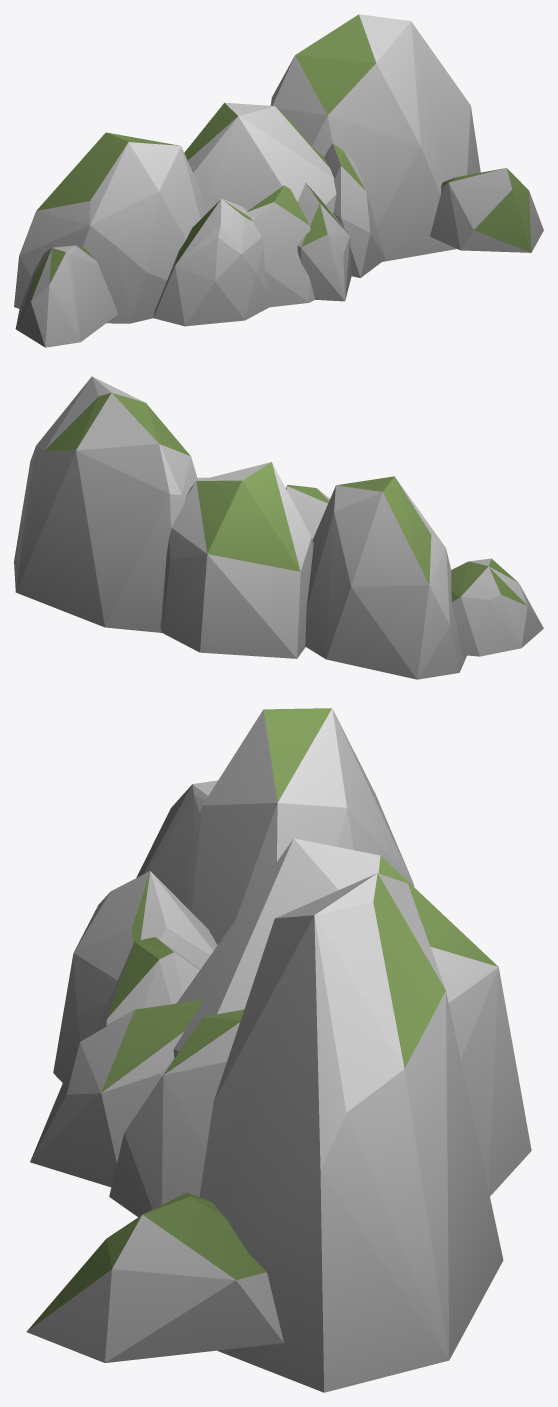
File: rk_rocks_2.glb
3 views of the same model, one above another, from view 1: azimuth 30°, elevation 25°; view 2: azimuth 150°, elevation 25°; view 3: azimuth 270°, elevation 25° (orthographic). The views are drawn at different scales.
Visible parts, largest first — view 1: rk_rocks_2; view 2: rk_rocks_2; view 3: rk_rocks_2.
Boxes of the visible parts, x1,y1,x2,y2 form: rk_rocks_2: (14,14,543,347); rk_rocks_2: (14,376,543,679); rk_rocks_2: (26,708,531,1392).
Bounding box in the file's own units: 55.35 × 22.36 × 24.89.
